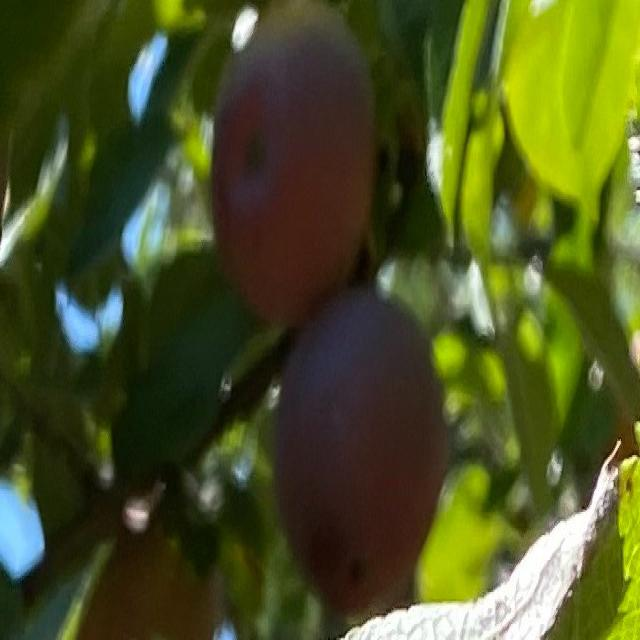Apples: (278, 293, 447, 615), (212, 9, 375, 323)
